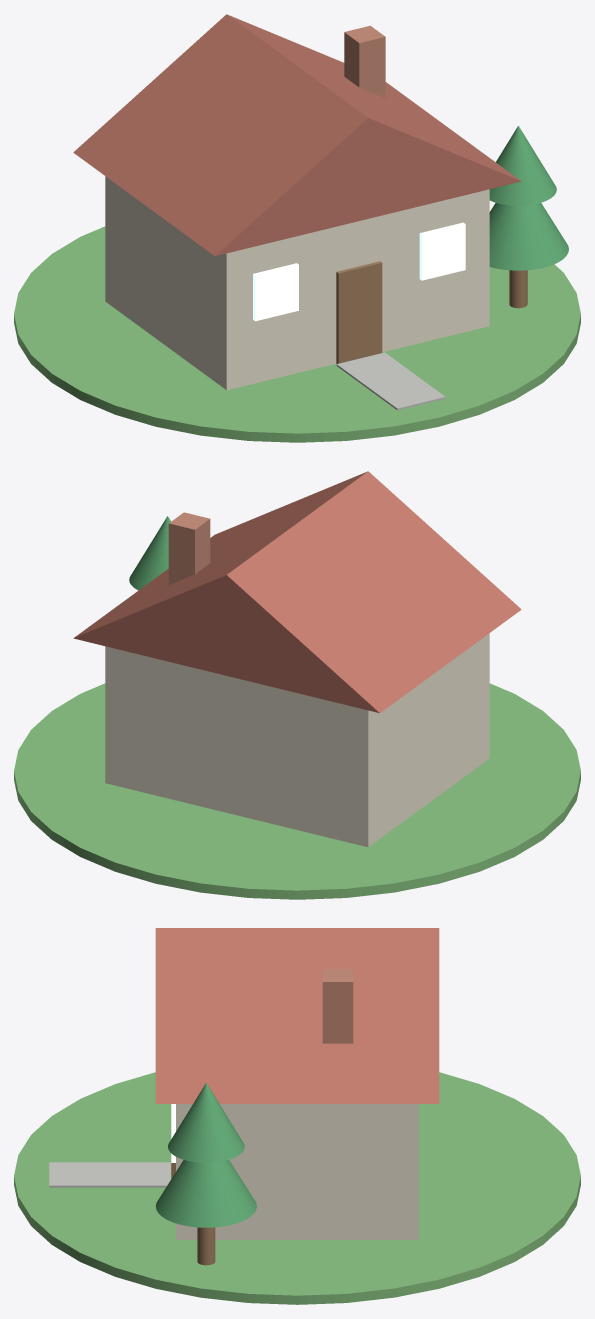
The model's file is small-cottage.glb.
3 views of the same model, one above another, from view 1: azimuth 30°, elevation 25°; view 2: azimuth 150°, elevation 25°; view 3: azimuth 270°, elevation 25° (orthographic).
Size of the model in its own units: 5.6 by 2.8 by 5.6.
